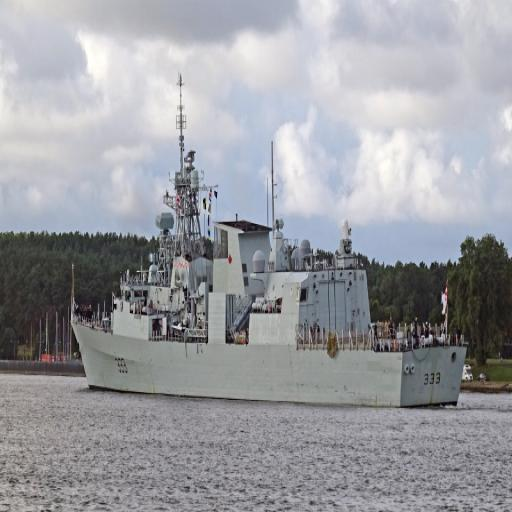Fragata: (72, 57, 473, 418)
